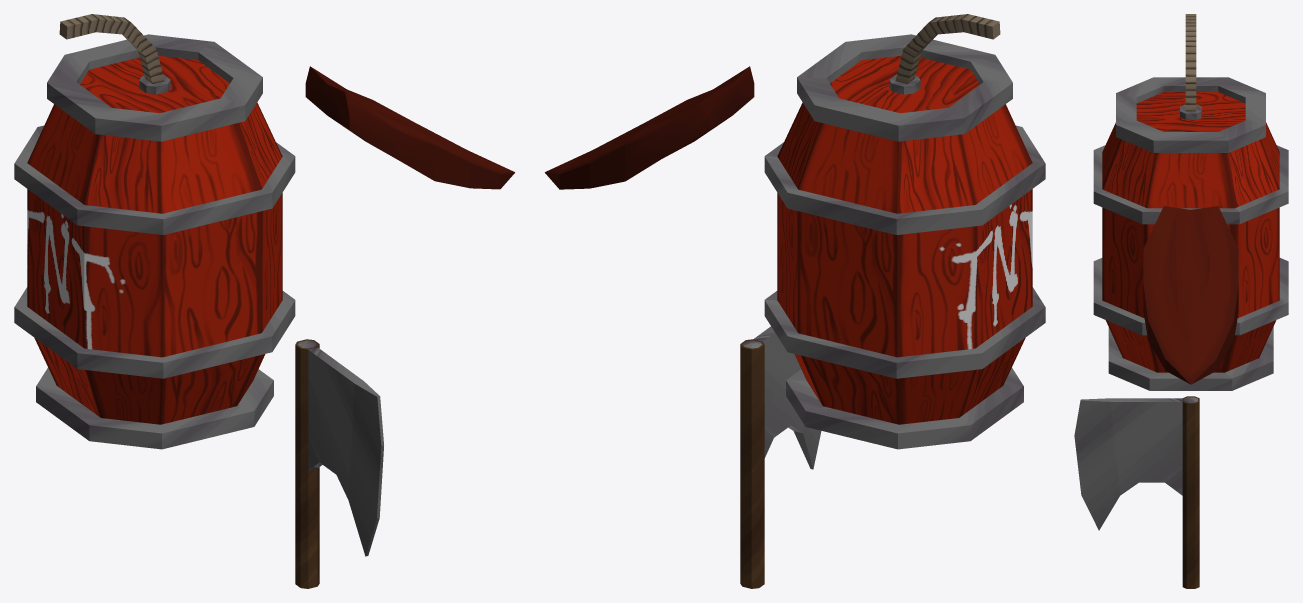
Rendered from dwarfkit.fbx.
3 views of the same model, side by side, from view 1: azimuth 30°, elevation 25°; view 2: azimuth 150°, elevation 25°; view 3: azimuth 270°, elevation 25° (orthographic). The views are drawn at different scales.
Visible parts, largest first — view 1: PowderKeg, Axe, Beard; view 2: PowderKeg, Axe, Beard; view 3: PowderKeg, Beard, Axe.
Boxes of the visible parts, bbox=[...] form: PowderKeg: bbox=[14, 14, 295, 449]; Axe: bbox=[295, 339, 383, 588]; Beard: bbox=[305, 66, 514, 189]; PowderKeg: bbox=[764, 14, 1045, 449]; Axe: bbox=[740, 326, 821, 588]; Beard: bbox=[545, 66, 754, 189]; PowderKeg: bbox=[1093, 14, 1288, 390]; Beard: bbox=[1143, 206, 1238, 384]; Axe: bbox=[1074, 396, 1199, 588].
Bounding box in the file's own units: 6.16 × 7.76 × 3.14.
Materials: 3 (3 with a texture image).
